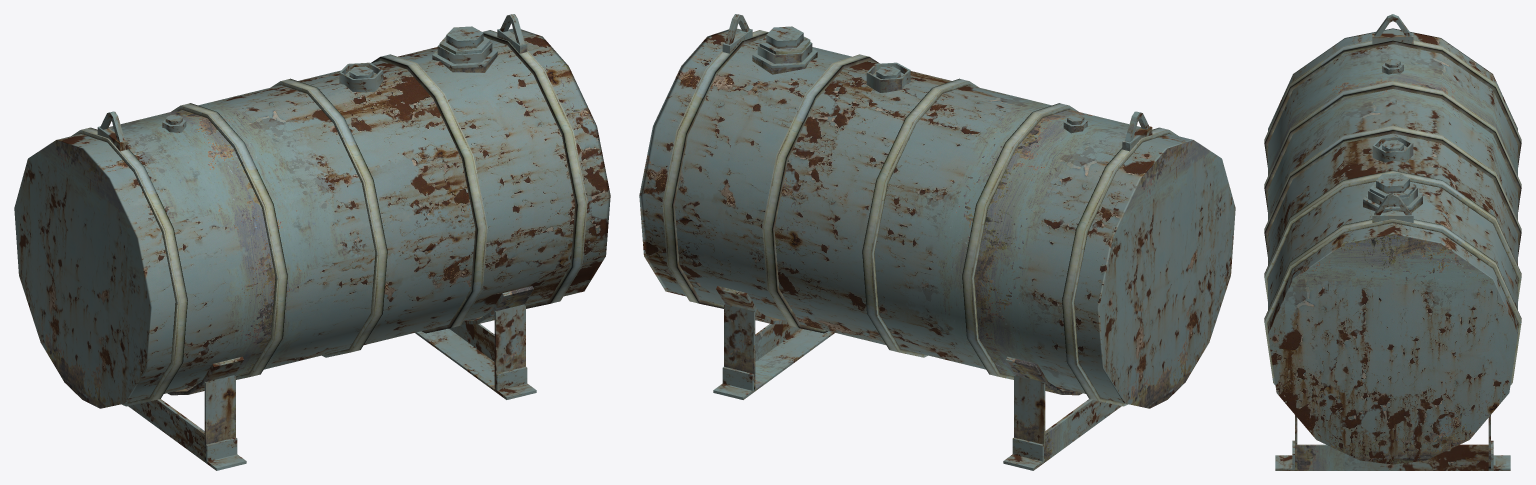
File: FuelTank_LOD1.fbx
3 views of the same model, side by side, from view 1: azimuth 30°, elevation 25°; view 2: azimuth 150°, elevation 25°; view 3: azimuth 270°, elevation 25° (orthographic). The views are drawn at different scales.
Parts seen in each view (by area): view 1: polySurface400; view 2: polySurface400; view 3: polySurface400.
Part boxes in pixels (x1=…): polySurface400: x1=14, y1=14, x2=610, y2=470; polySurface400: x1=639, y1=14, x2=1235, y2=470; polySurface400: x1=1264, y1=14, x2=1521, y2=470.
Bounding box in the file's own units: 3.59 × 2.37 × 1.87.
1 material, 1 textured.
